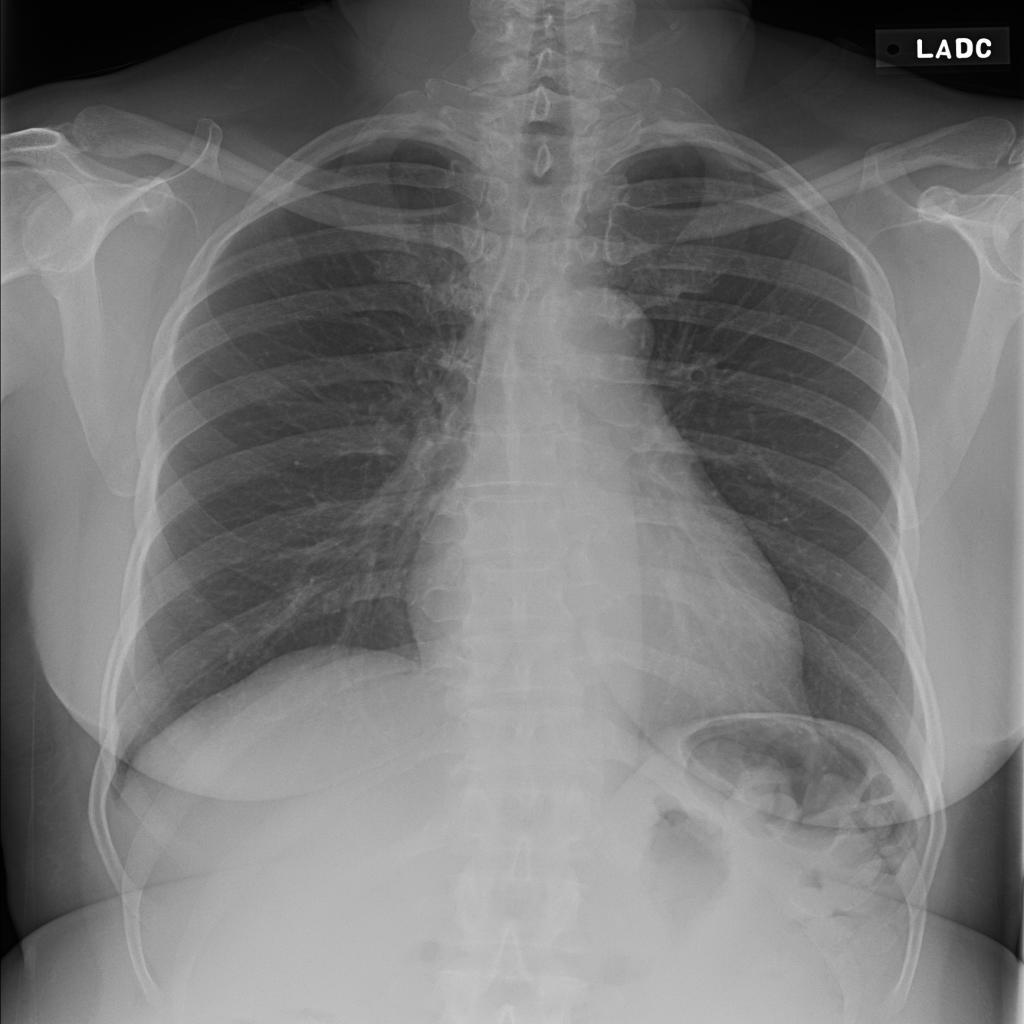Nodule: (455, 284, 503, 302), (472, 328, 504, 349), (455, 258, 493, 274)
